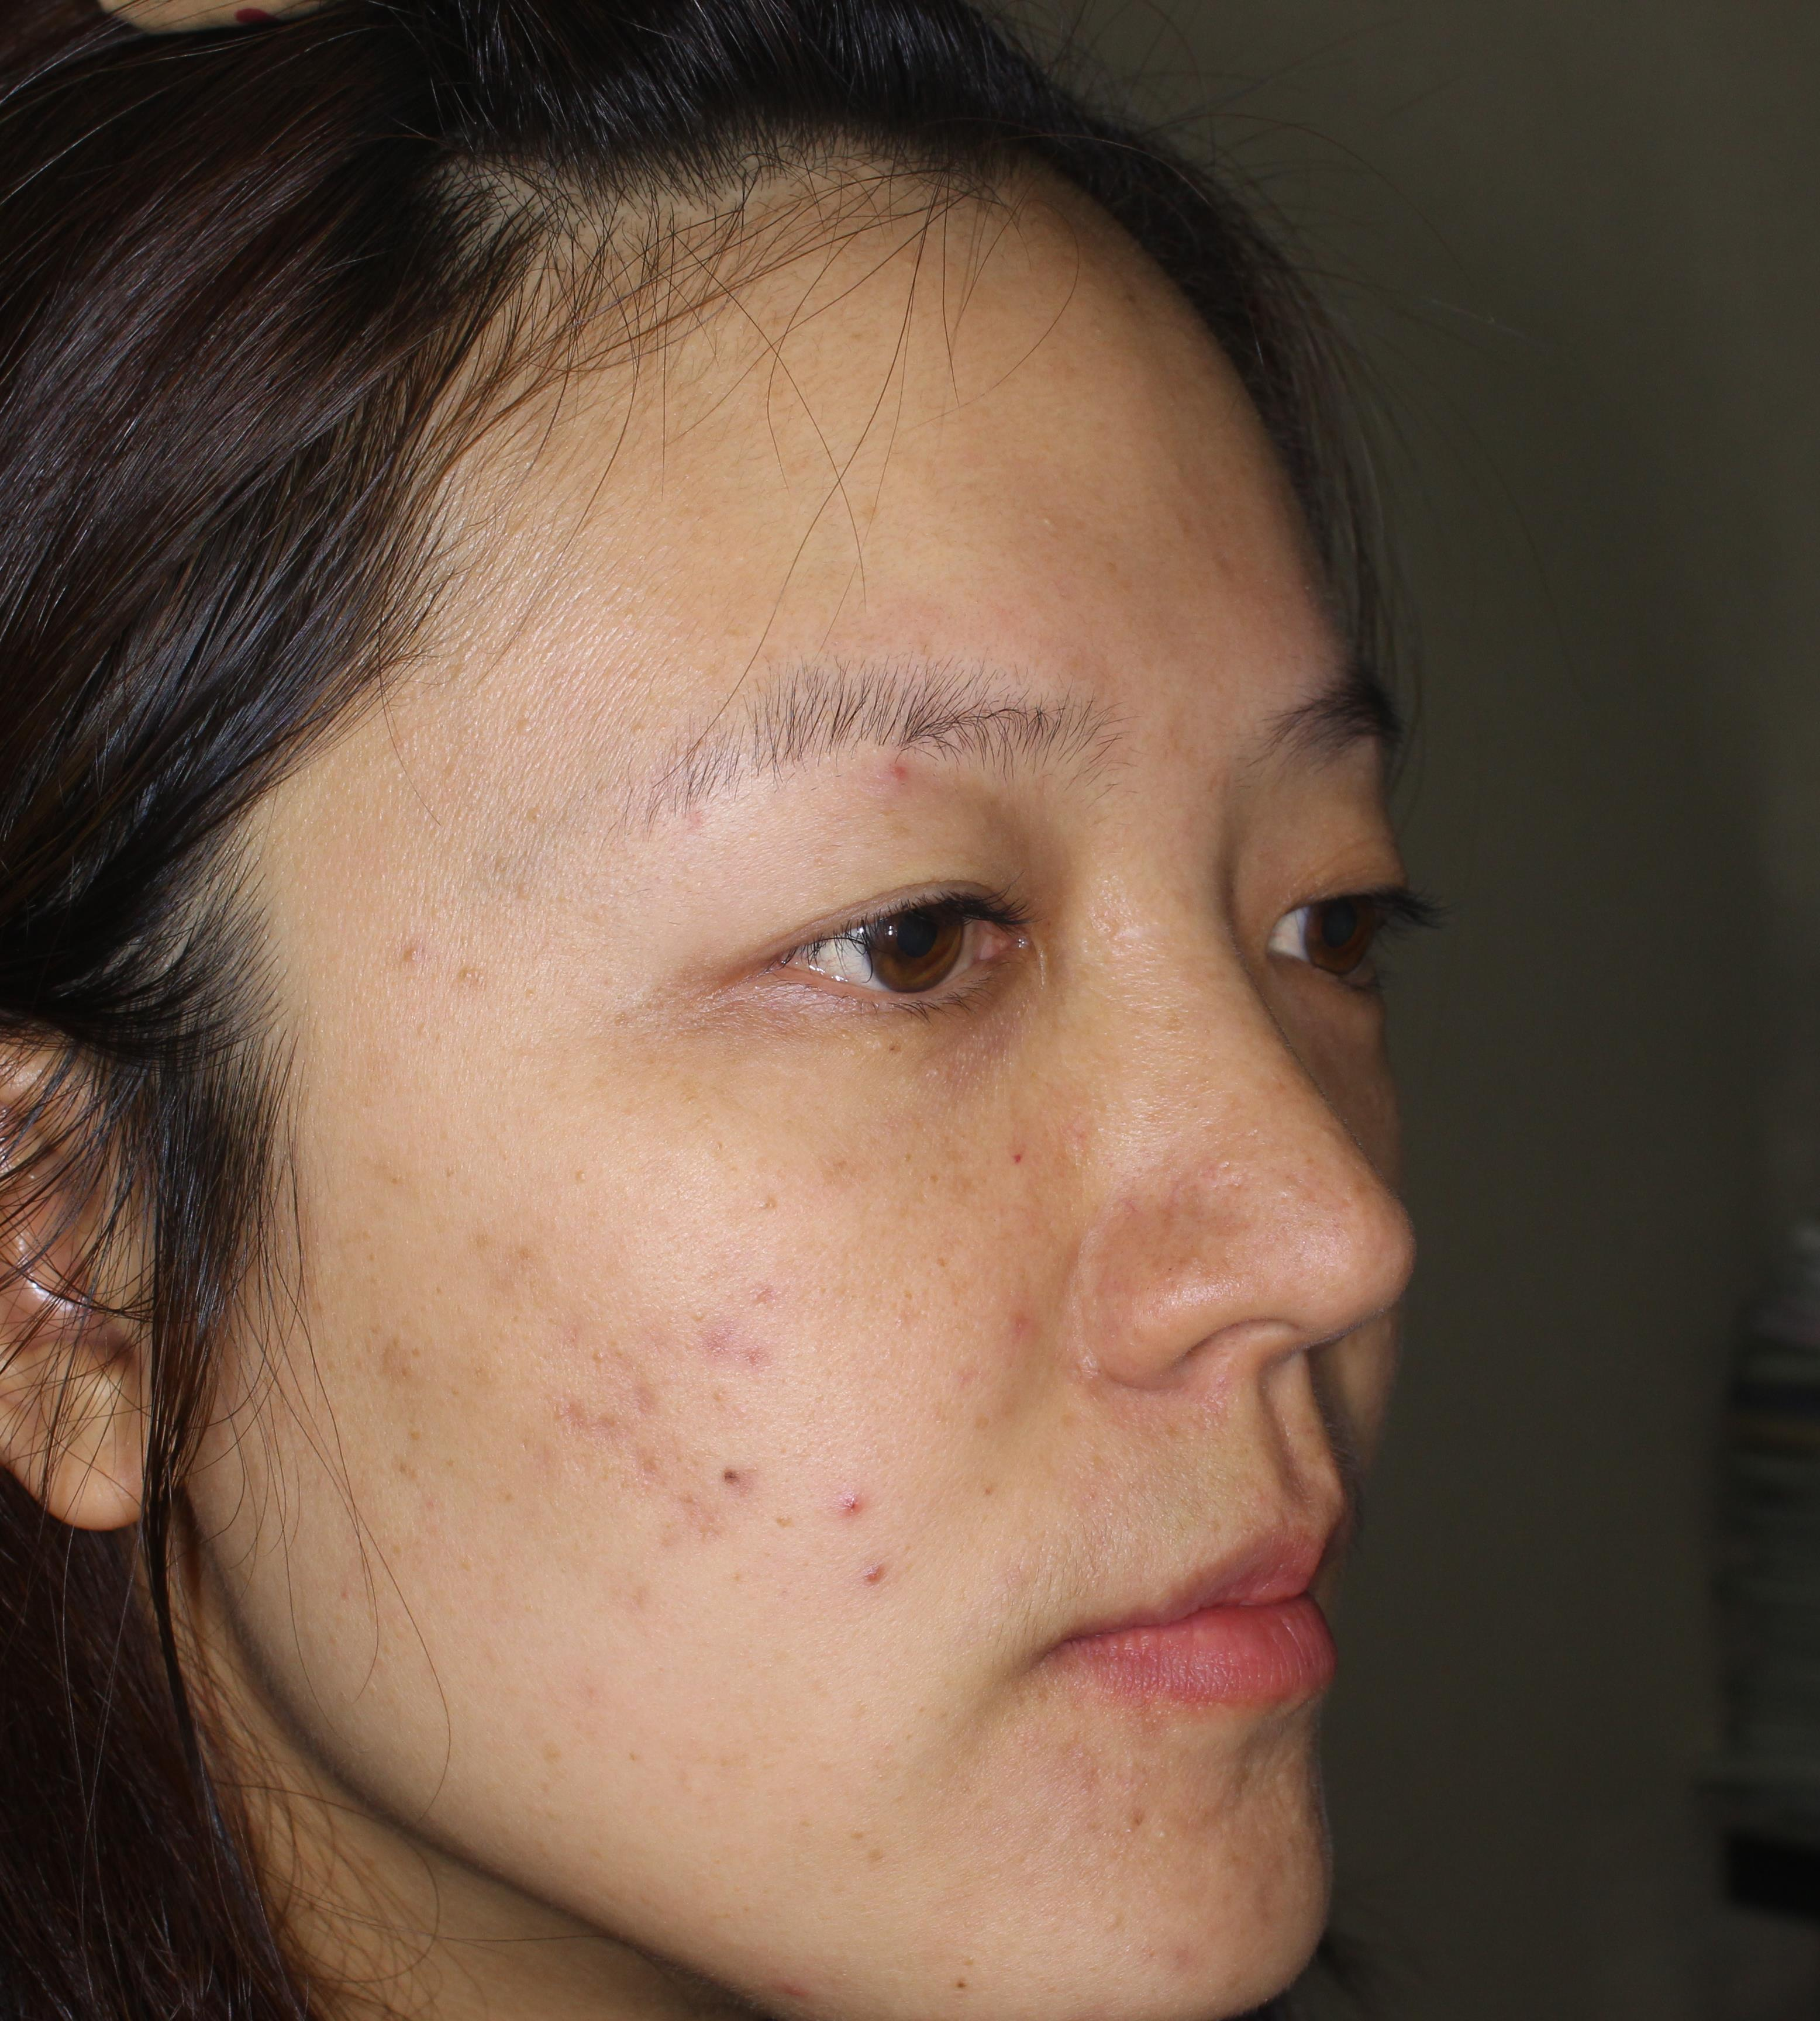fore: (562, 1356, 632, 1473), (696, 1294, 785, 1375), (970, 1285, 1051, 1370)
